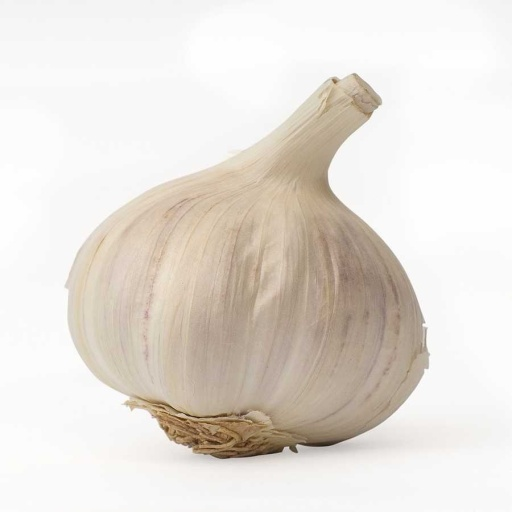Knoblauch: (66, 72, 430, 459)
